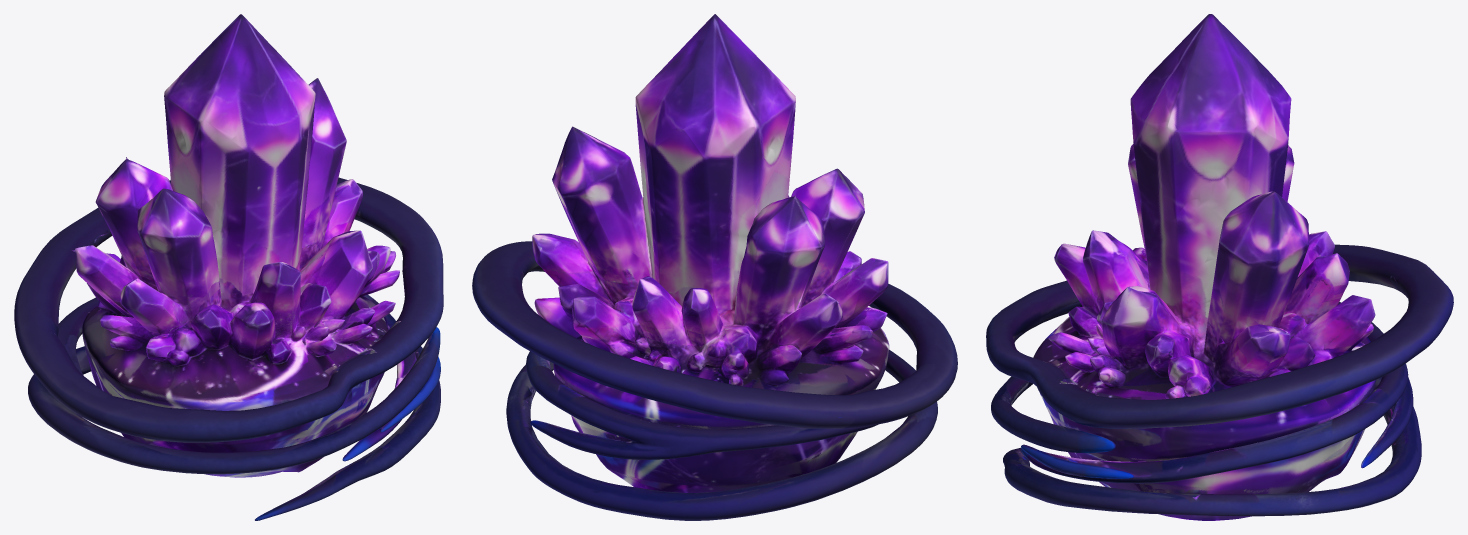
The model's file is AmethystCluster.glb.
3 renders of one model, left to right at view 1: azimuth 30°, elevation 25°; view 2: azimuth 150°, elevation 25°; view 3: azimuth 270°, elevation 25°, orthographic. The views are drawn at different scales.
Bounding box in the file's own units: 1.71 × 1.9 × 1.6.
Materials: 1 (1 with a texture image).
